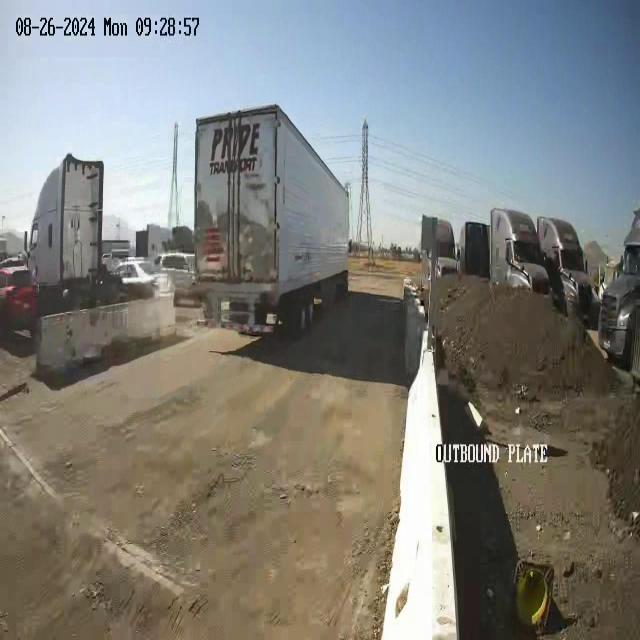TRUCK_IN: (193, 102, 350, 331)
